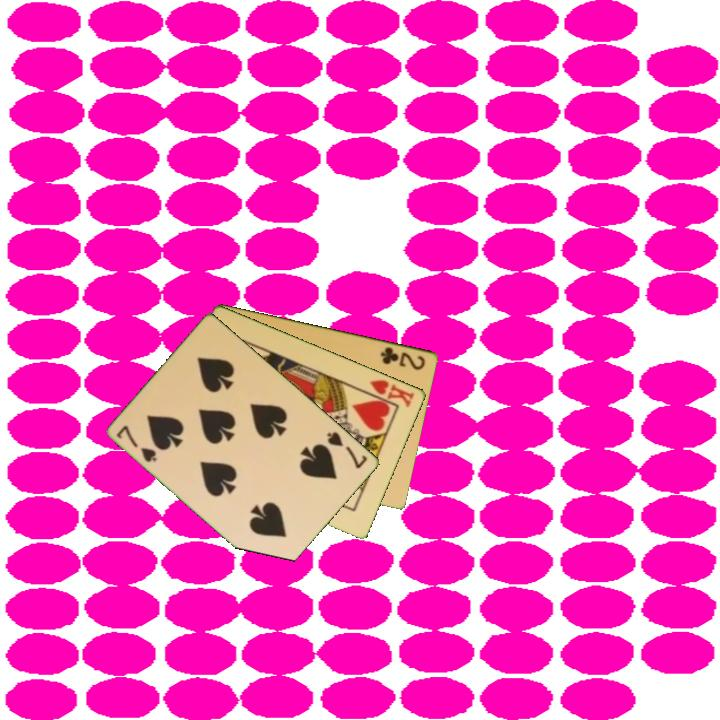2c: (377, 343, 428, 373)
7s: (323, 428, 371, 471), (113, 422, 160, 465)
Kh: (360, 376, 418, 411)
